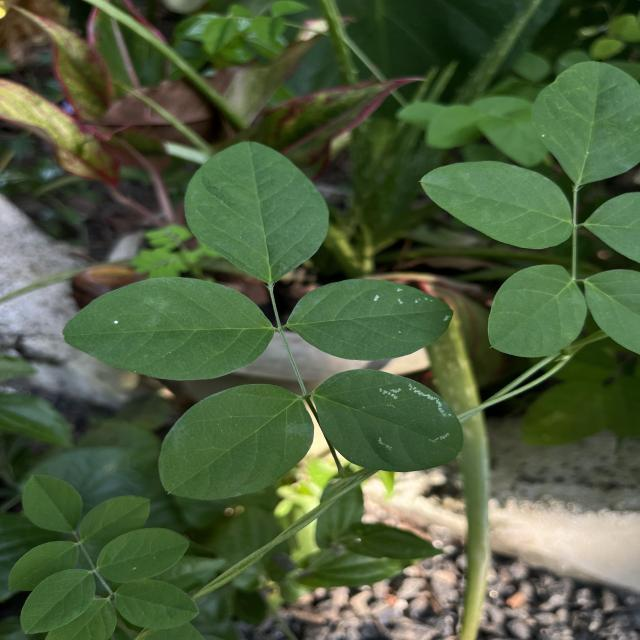Clitoria ternatea: (62, 276, 276, 382), (182, 140, 330, 284), (157, 382, 315, 502), (310, 368, 464, 473), (284, 278, 454, 362)
